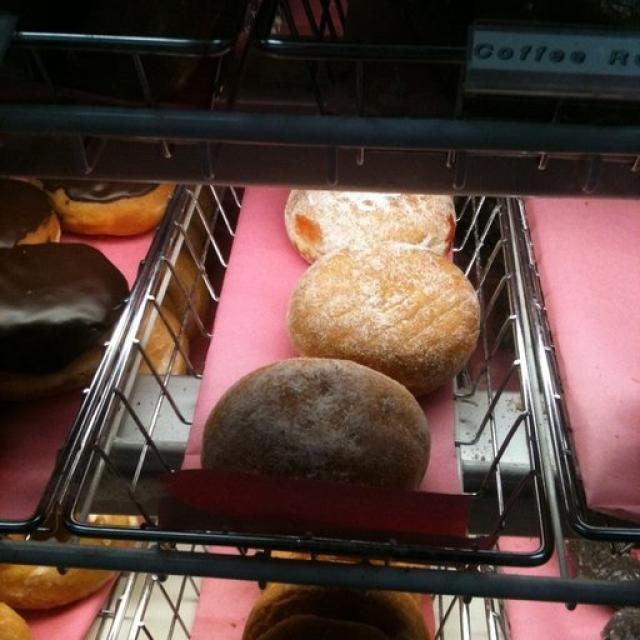Donuts: (6, 175, 534, 633)
